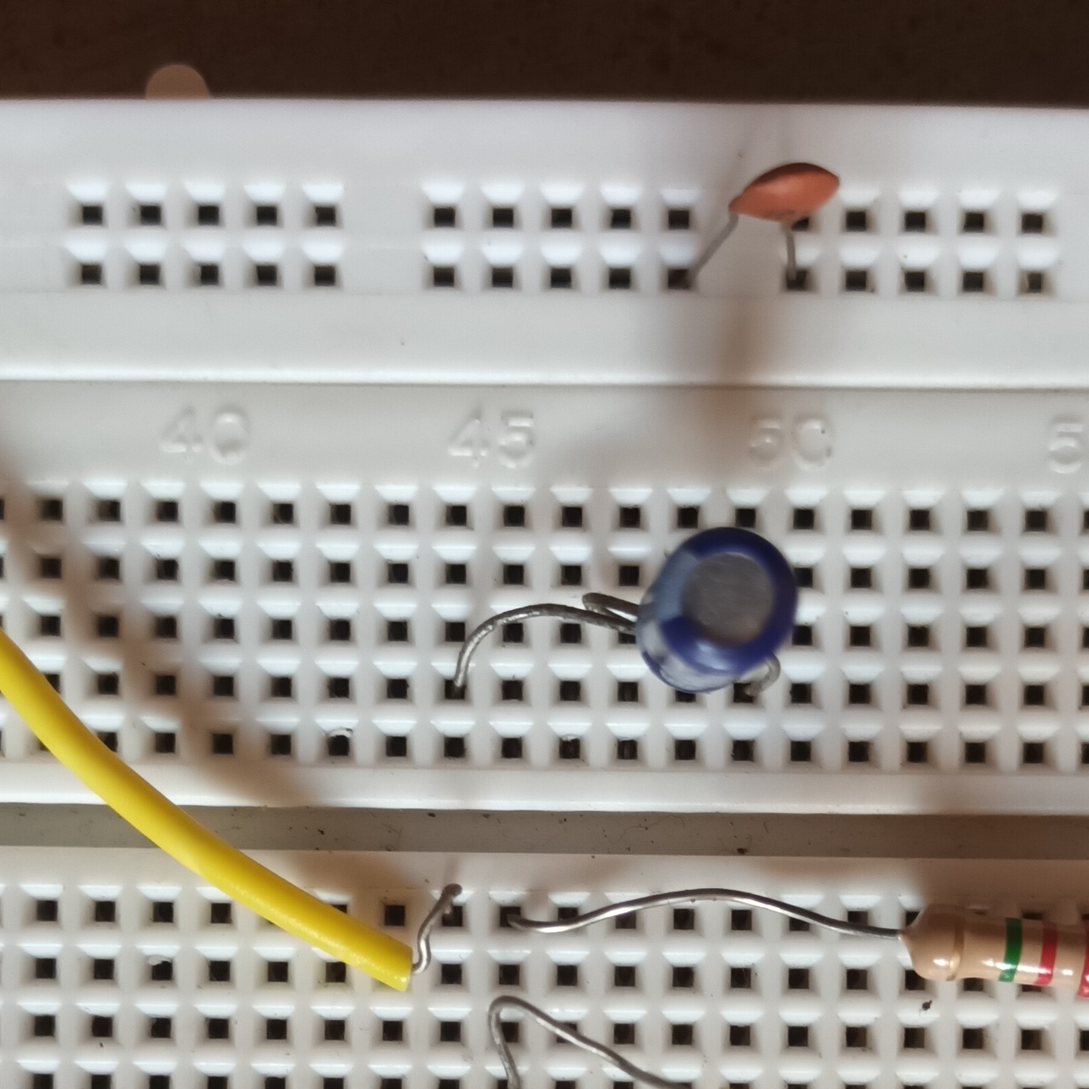capacitor: (635, 522, 802, 698), (725, 155, 848, 234)
resistor: (898, 902, 1089, 1009)
